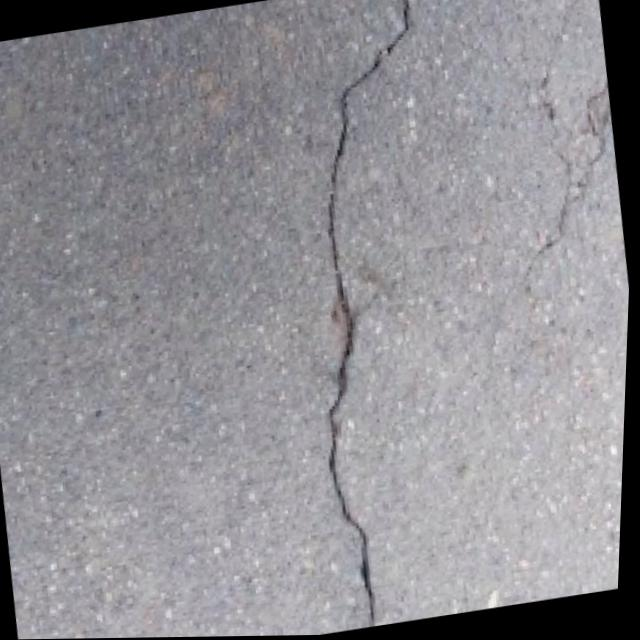Crack: (254, 0, 509, 634)
